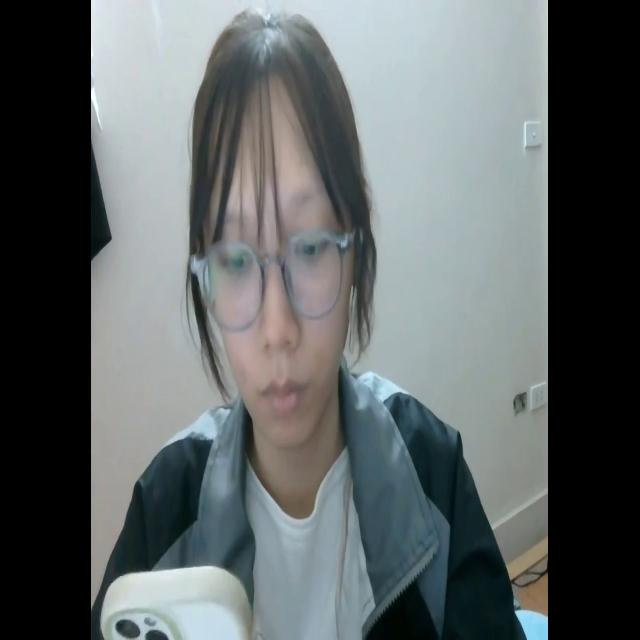phone: (96, 558, 258, 640)
student: (97, 6, 520, 640)
